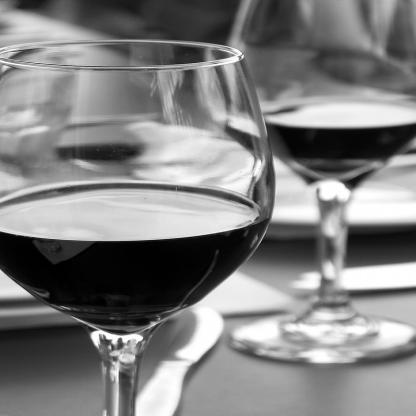drinking: (0, 39, 277, 415), (225, 0, 416, 366)
